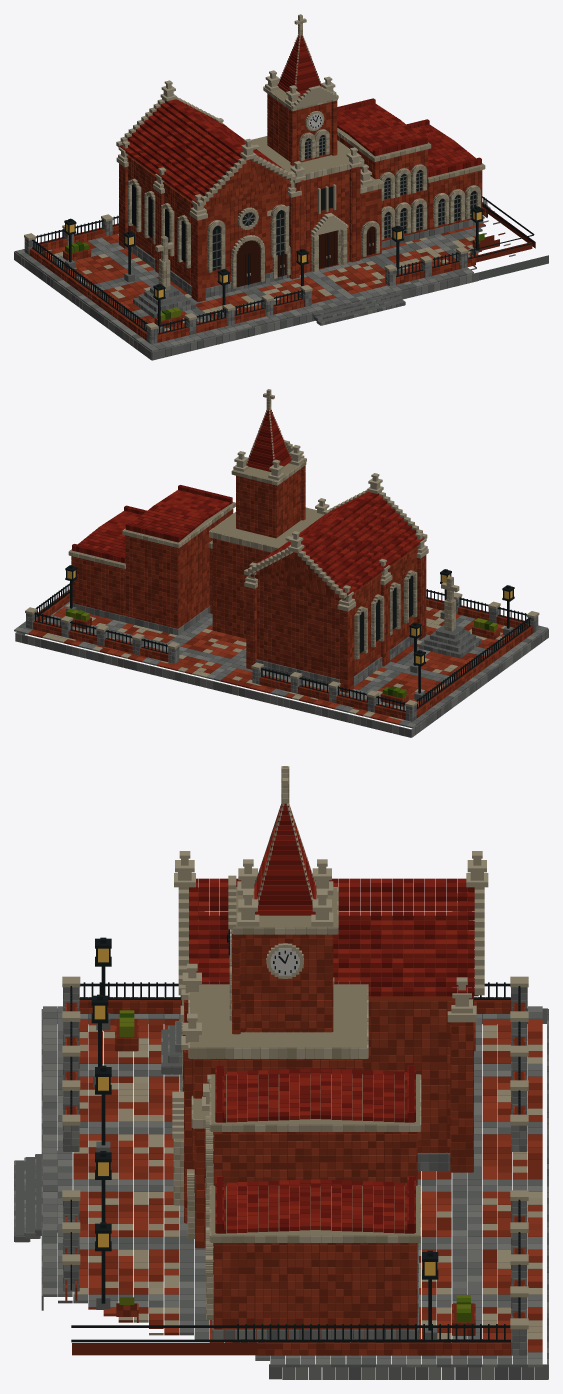
The model's file is SM_StreetFrontage_096.fbx.
3 views of the same model, one above another, from view 1: azimuth 30°, elevation 25°; view 2: azimuth 150°, elevation 25°; view 3: azimuth 270°, elevation 25° (orthographic). The views are drawn at different scales.
Visible parts, largest first — view 1: SM_StreetFrontage_096; view 2: SM_StreetFrontage_096; view 3: SM_StreetFrontage_096.
Boxes of the visible parts, x1,y1,x2,y2 form: SM_StreetFrontage_096: [14, 14, 548, 360]; SM_StreetFrontage_096: [14, 389, 548, 737]; SM_StreetFrontage_096: [14, 766, 548, 1379].
Size of the model in its own units: 45 by 28.33 by 26.22.
